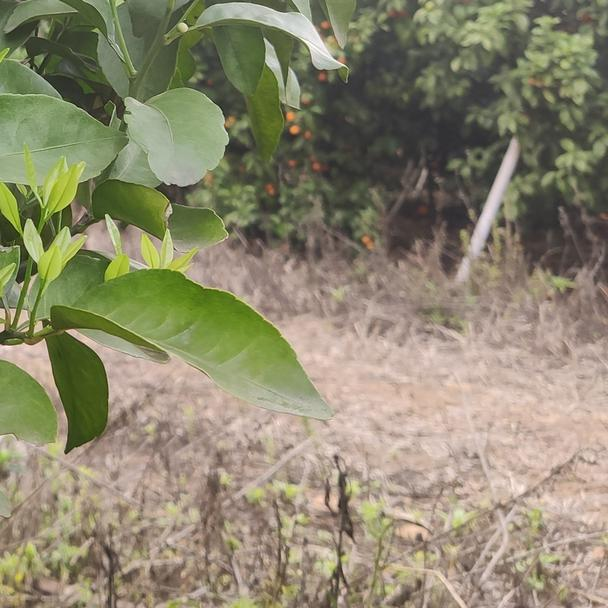shoot: (8, 157, 90, 309), (138, 226, 197, 273), (104, 214, 137, 280)
